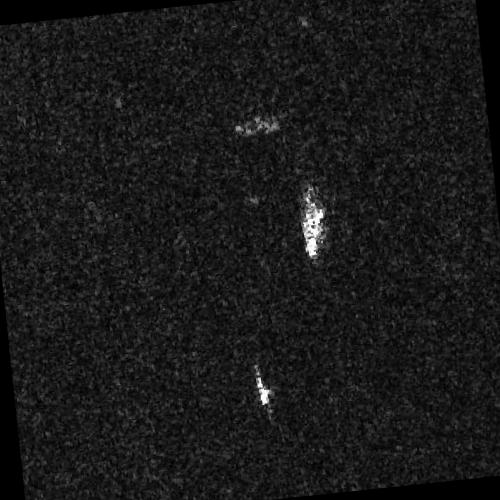ship: (300, 191, 324, 261), (253, 367, 270, 406)
